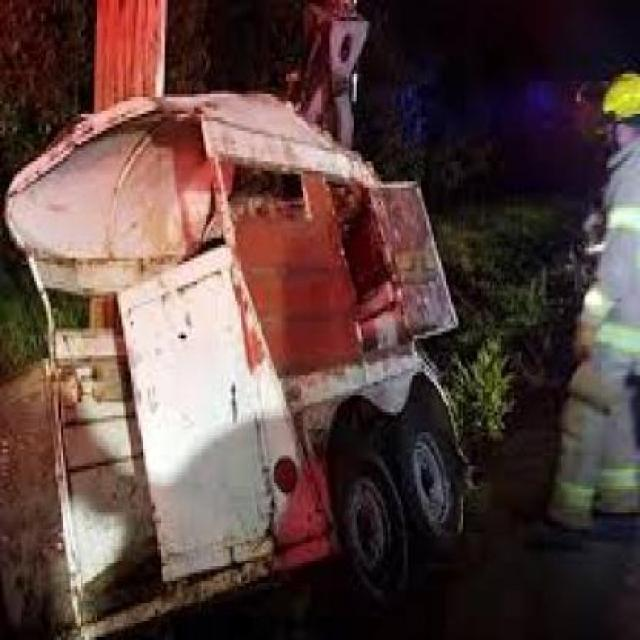accident: (9, 86, 474, 628)
